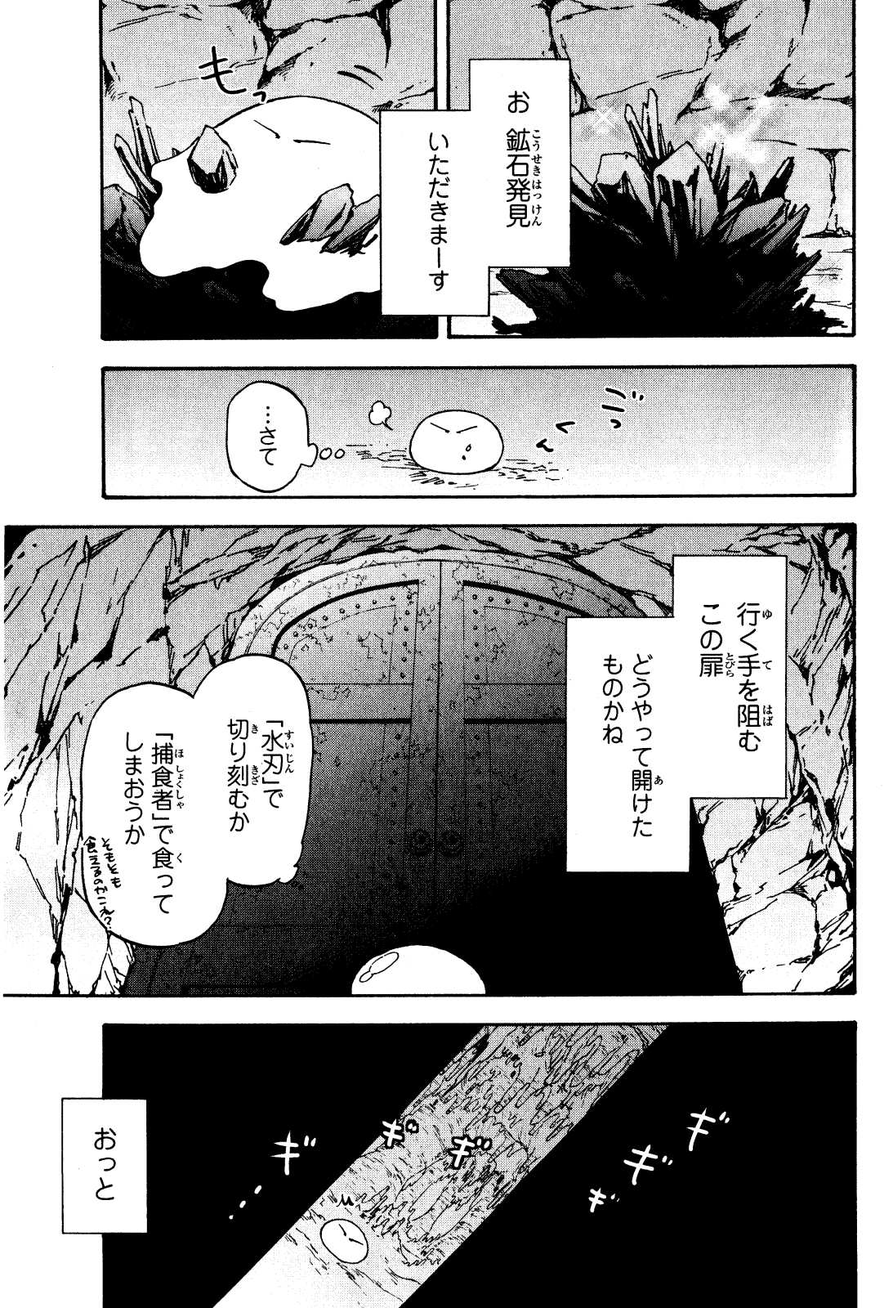bubbles: (67, 647, 321, 957), (558, 548, 794, 881), (372, 55, 578, 320), (220, 375, 351, 498), (56, 1091, 158, 1238)
